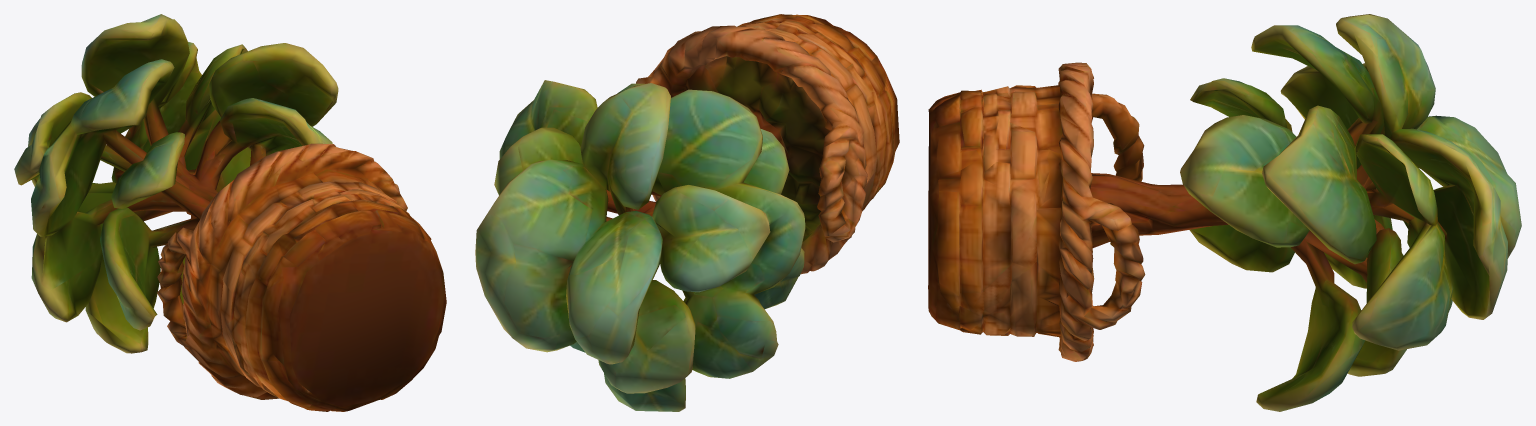
3 renders of one model, left to right at view 1: azimuth 30°, elevation 25°; view 2: azimuth 150°, elevation 25°; view 3: azimuth 270°, elevation 25°, orthographic. The views are drawn at different scales.
Visible parts, largest first — view 1: material; view 2: material; view 3: material.
Boxes of the visible parts, bbox=[...] form: material: bbox=[14, 14, 446, 411]; material: bbox=[475, 14, 899, 411]; material: bbox=[928, 14, 1521, 411].
Bounding box in the file's own units: 0.6409 × 0.6677 × 1.
Materials: 1 (1 with a texture image).
